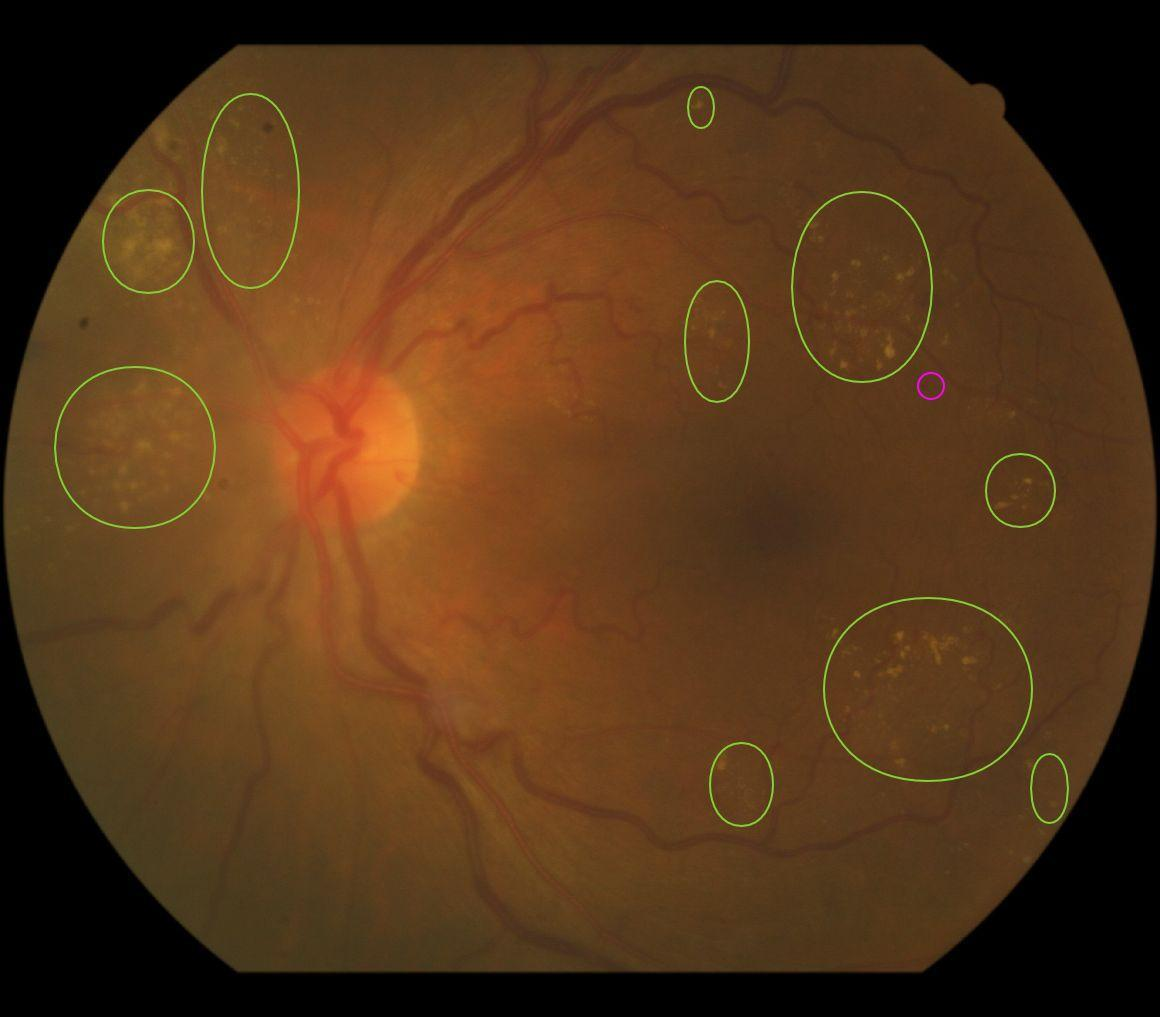视网膜前出血: (916, 371, 946, 401)
